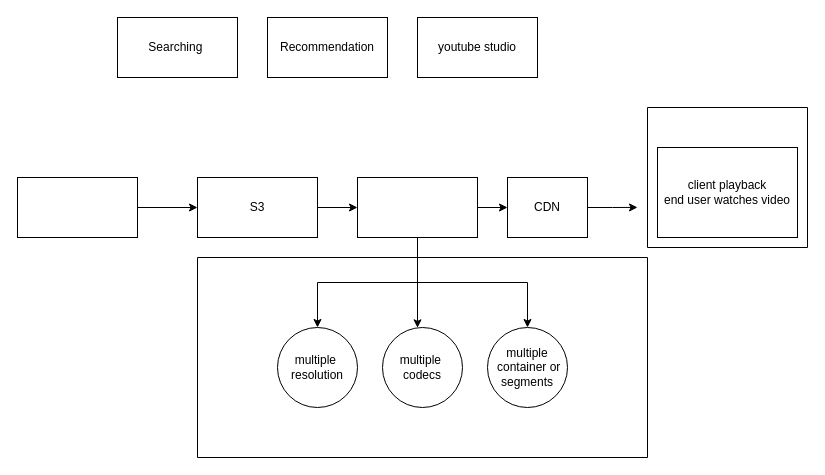
Some shapes in this 825 by 475 pixel diagram are drawn without their labels. The shapes that lost their labels are listed below. From the top down, each one's centre as x and y in pixels, then its label:
(x=77, y=207): upload
(x=417, y=207): async transcoding pipeline
